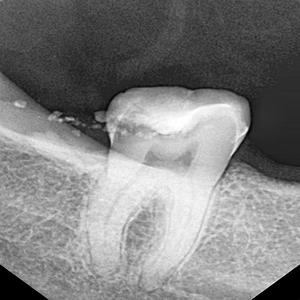tooth: (91, 86, 255, 290)
